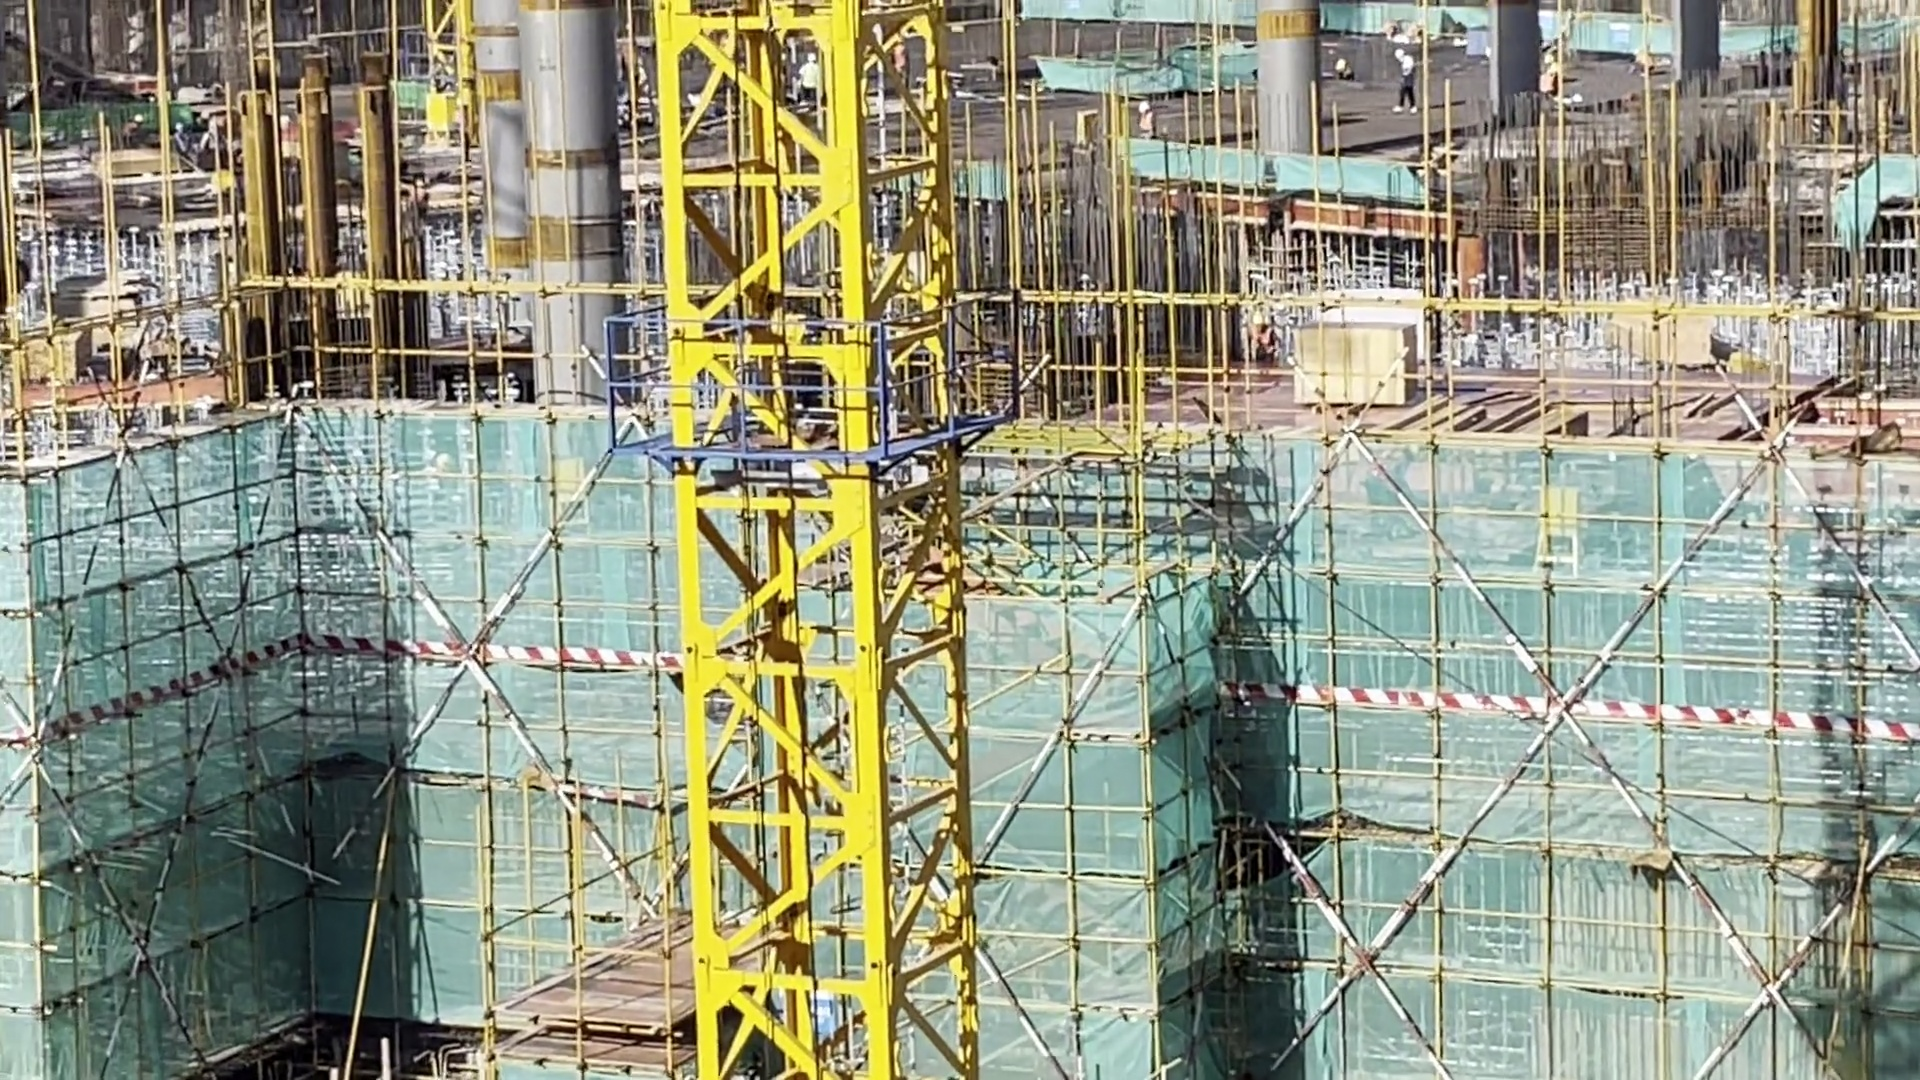ebox: (425, 91, 455, 134)
person: (1397, 39, 1416, 110), (1138, 102, 1154, 140)
